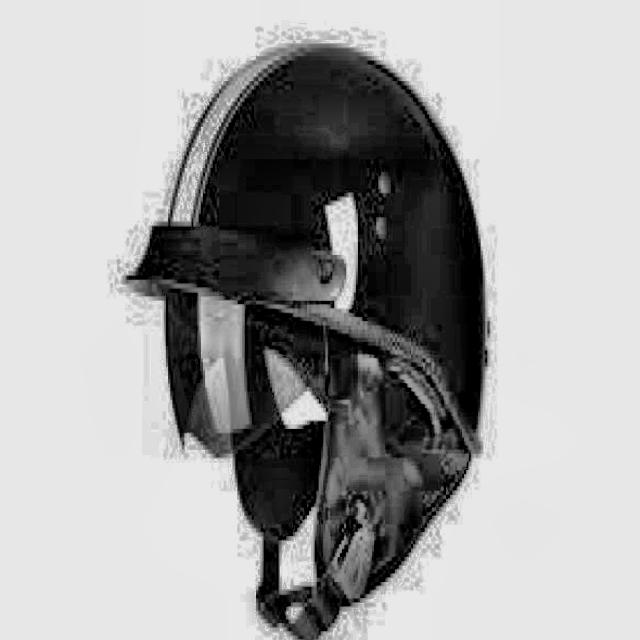Helmet: (120, 35, 490, 629)
